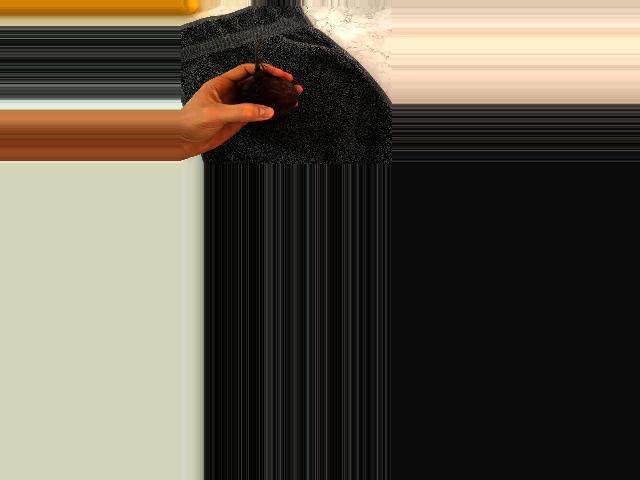beet: (240, 37, 298, 124)
